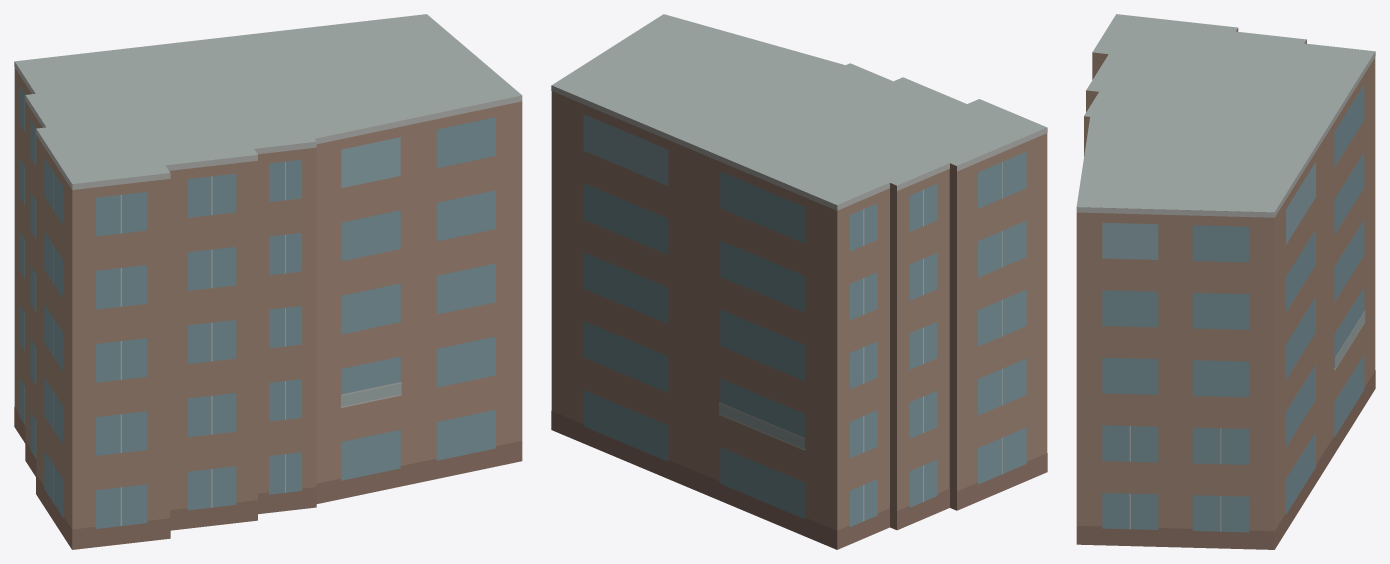
Rendered from survey-upis-32613846.glb.
3 renders of one model, left to right at view 1: azimuth 30°, elevation 25°; view 2: azimuth 150°, elevation 25°; view 3: azimuth 270°, elevation 25°, orthographic. The views are drawn at different scales.
Parts seen in each view (by area): view 1: survey-upis-32613846.tmp; view 2: survey-upis-32613846.tmp; view 3: survey-upis-32613846.tmp.
Part boxes in pixels (x1=…): survey-upis-32613846.tmp: x1=14, y1=14, x2=522, y2=549; survey-upis-32613846.tmp: x1=551, y1=14, x2=1047, y2=549; survey-upis-32613846.tmp: x1=1076, y1=14, x2=1375, y2=549.
Bounding box in the file's own units: 19.23 × 15.25 × 12.25.
